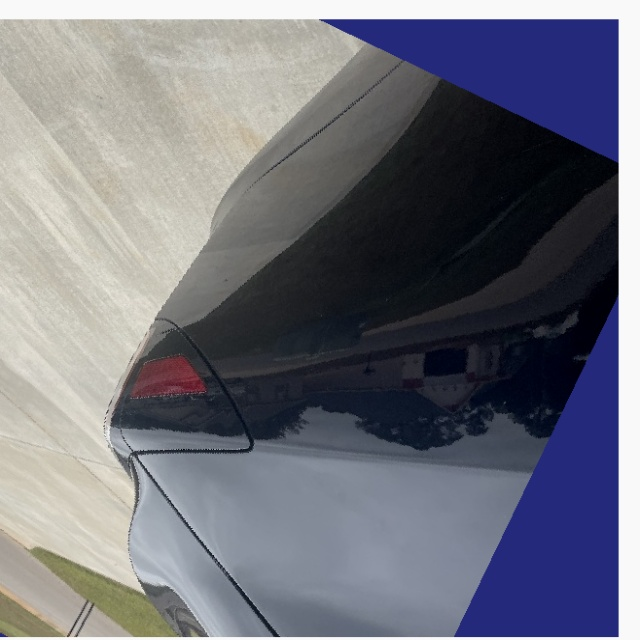reflector: (127, 341, 215, 426)
